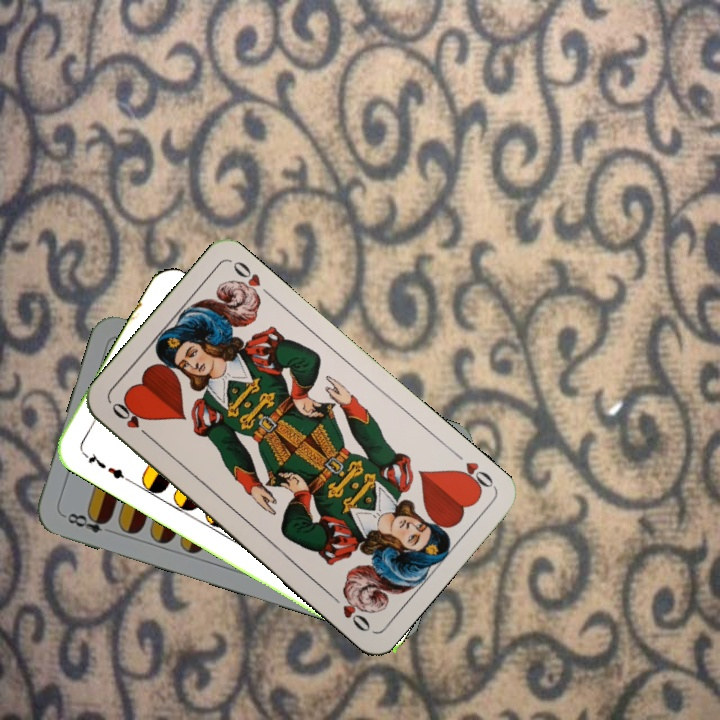E7: (78, 447, 132, 484)
E8: (59, 508, 113, 536)
HO: (107, 398, 155, 443), (450, 457, 497, 496)
